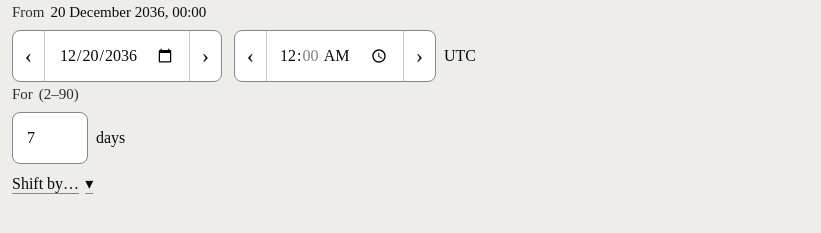
PeriodControls › holds a length that runs past the Sun and Earth table, and names the latest landing for it
Step 1. Replace the text in the number field labelled "For" with "30" → {"x": 50, "y": 138}, box [12,112,88,164]
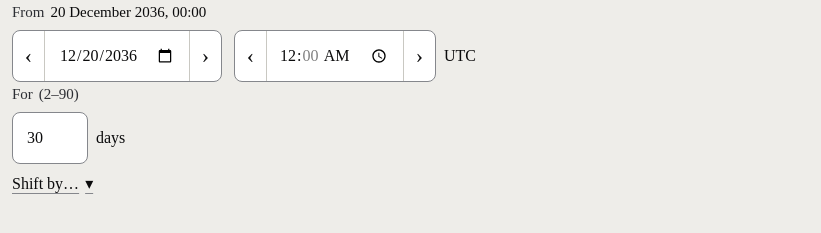
Step 2. Leave the number field labelled "For", box [12,112,88,164]
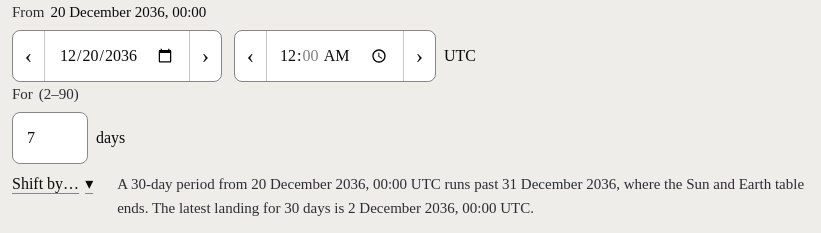
Expected: the number field labelled "For" holds "7", [12,112,88,164]
Expected: the message shows "A 30-day period from 20 December 2036, 00:00 UTC runs past 31 December 2036, where the Sun and Earth table ends. The latest landing for 30 days is 2 December 20", [117,176,804,216]
